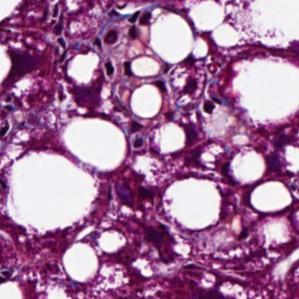inflammation: (87, 4, 157, 56), (175, 78, 224, 116), (95, 60, 137, 83)
